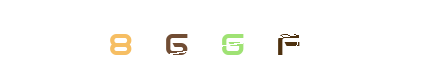6: (180, 0, 260, 80)
8: (80, 0, 160, 80)
F: (190, 0, 270, 80)
G: (181, 0, 261, 80)
